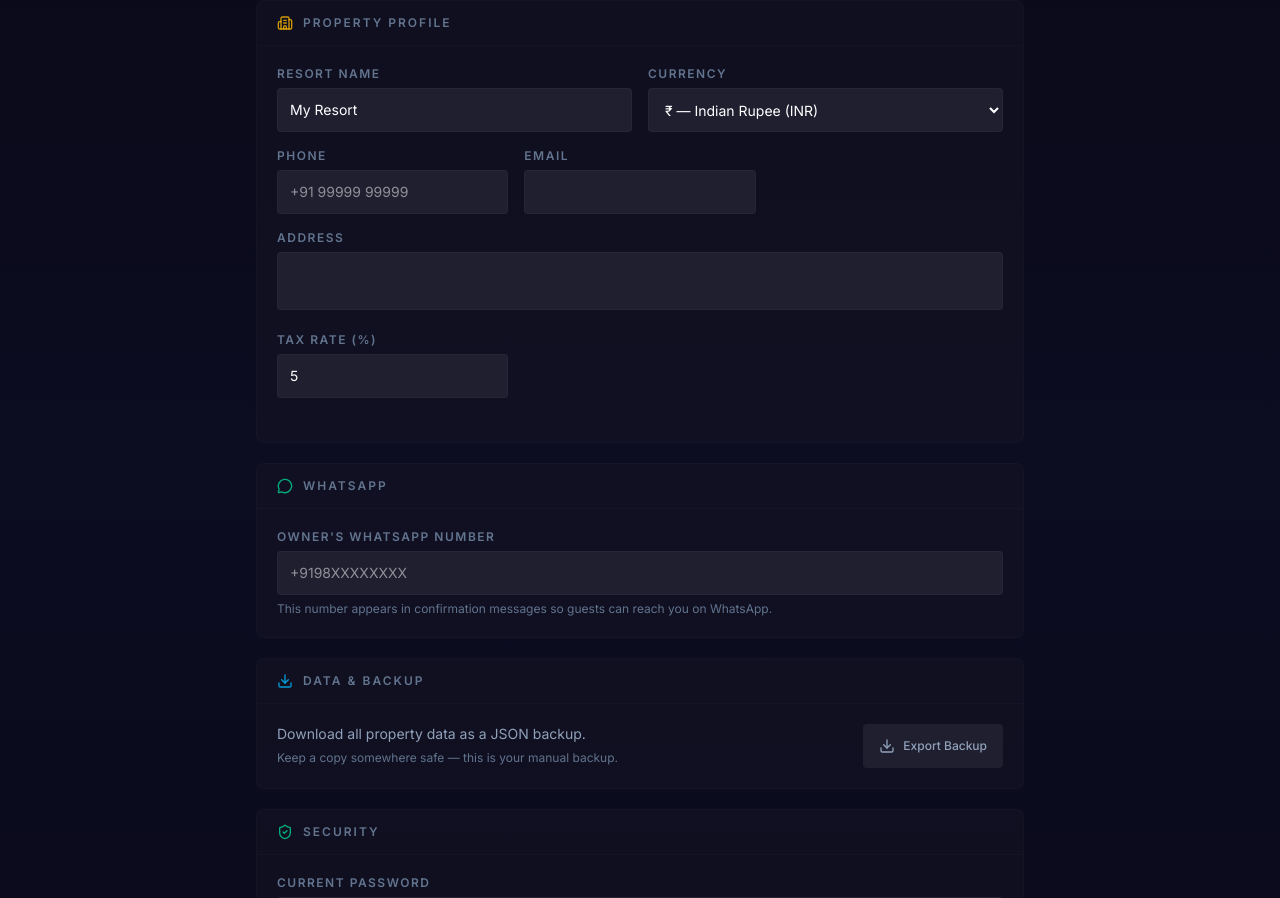
Settings › hides the save button until a field changes
The image size is (1280, 898).
Expected: the button "Save Settings" is not shown
Replace the text in the field showing "My Resort" below "Resort Name" with "Shoreline": (454, 110) 277,88 -> 632,132
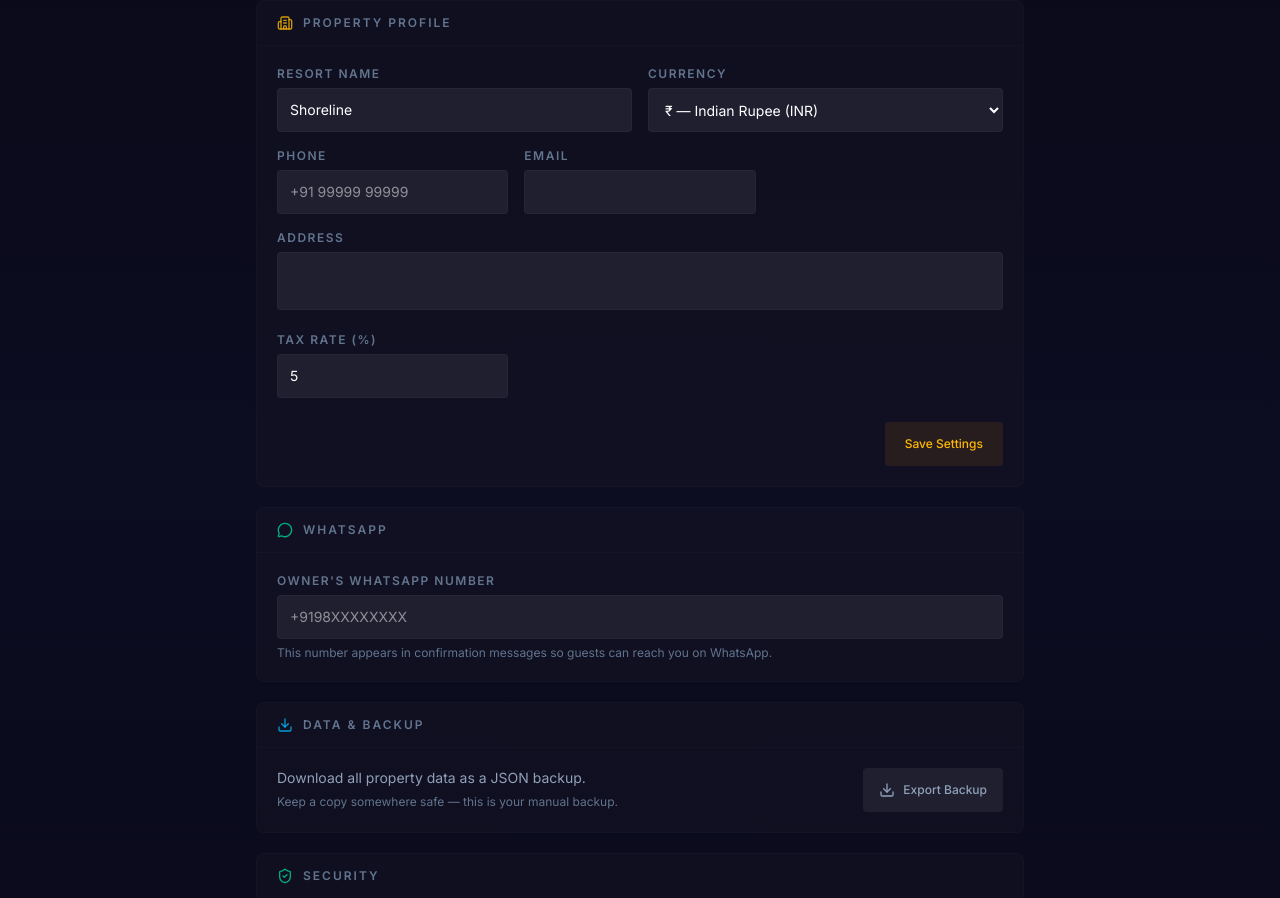
Expected: the button "Save Settings" is shown, 885,422 -> 1003,466
